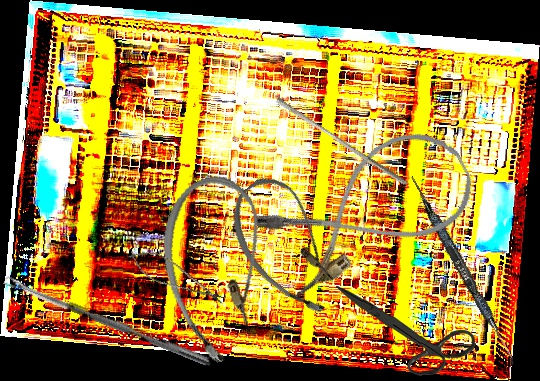Cannula: (249, 114, 487, 304), (147, 168, 289, 370), (211, 165, 366, 327)
Iris Scissors: (336, 281, 477, 379)
Micro Scissor: (122, 241, 231, 313)
Pusher: (272, 96, 412, 187)
Spatula Surgical: (403, 174, 523, 367)
Surgical Spoon: (3, 274, 214, 368)
